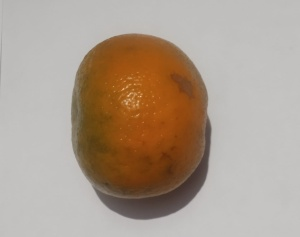BAD: (71, 29, 213, 203)
